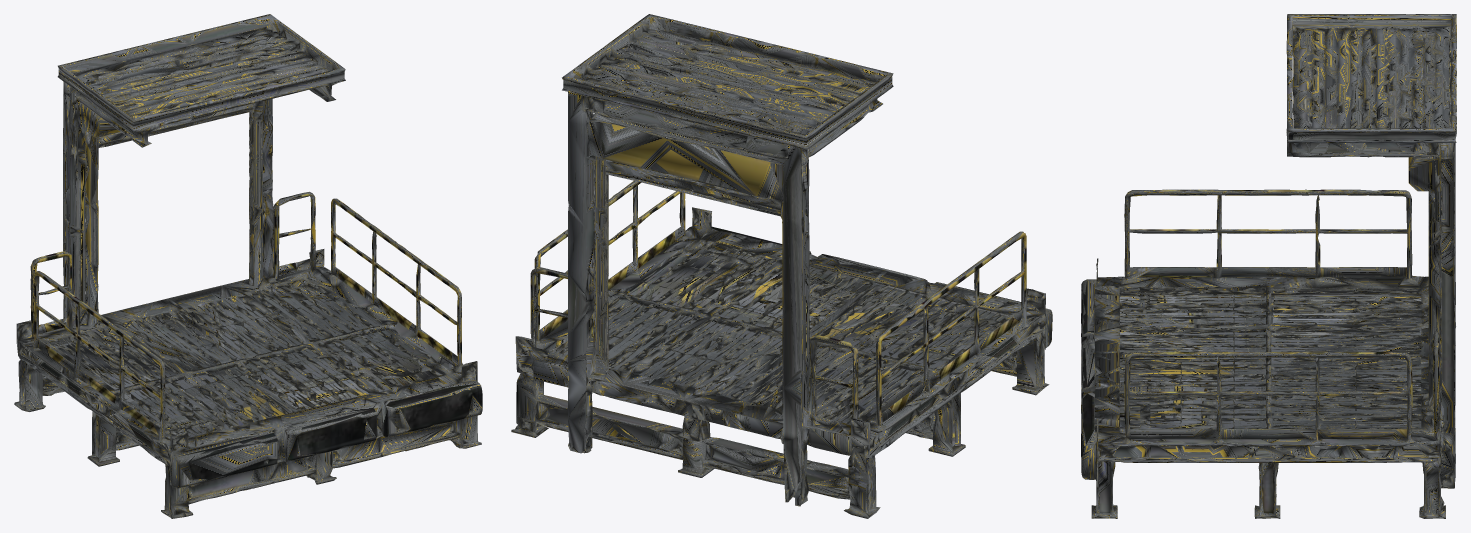
Rendered from loading-dock.glb.
3 renders of one model, left to right at view 1: azimuth 30°, elevation 25°; view 2: azimuth 150°, elevation 25°; view 3: azimuth 270°, elevation 25°, orthographic. The views are drawn at different scales.
Visible parts, largest first — view 1: mesh_node; view 2: mesh_node; view 3: mesh_node.
Boxes of the visible parts, x1=… form: mesh_node: x1=14, y1=14, x2=482, y2=518; mesh_node: x1=511, y1=14, x2=1052, y2=518; mesh_node: x1=1081, y1=14, x2=1456, y2=518.
Bounding box in the file's own units: 1.9 × 1.9 × 1.78.
1 material, 1 textured.
